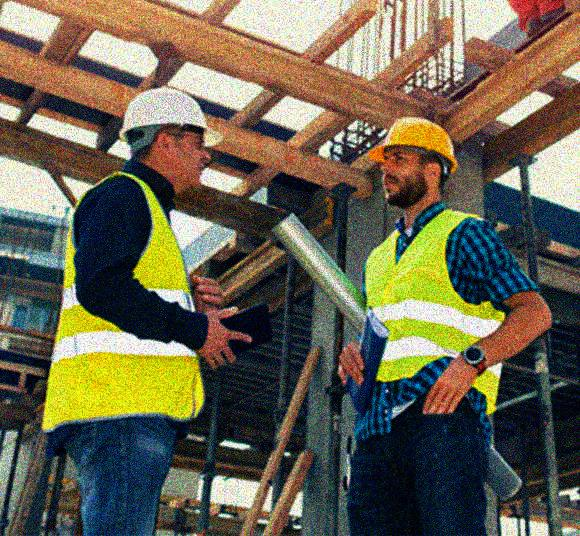helmet: (117, 86, 226, 190), (365, 115, 461, 206)
